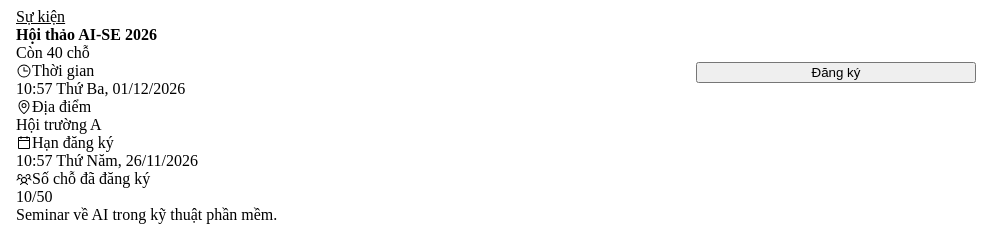
đăng ký: giữ request thì nút disabled, bấm 2 lần chỉ 1 POST, chưa báo thành công; xong thì báo và cập nhật số chỗ
Later steps or results of the test are not shown.
Expected: the text "10/50" is shown, x1=16 y1=188 x2=52 y2=205
Click the button "Đăng ký": {"x": 836, "y": 72} x1=696 y1=62 x2=976 y2=83
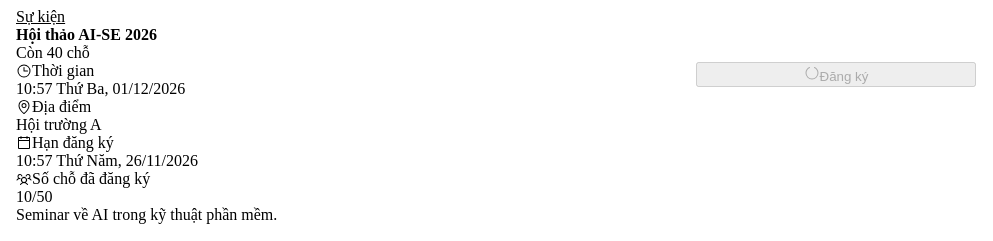
Click the button "Đăng ký": {"x": 836, "y": 74} x1=696 y1=62 x2=976 y2=87
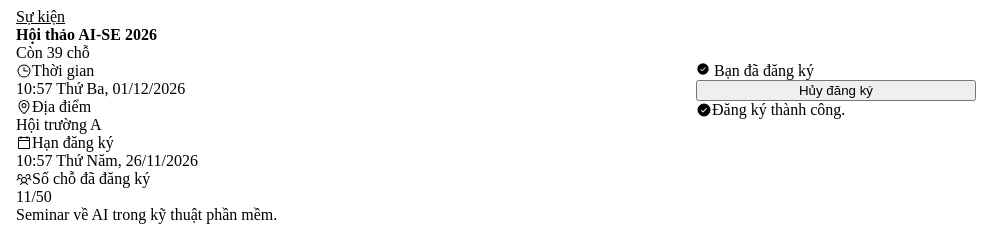
Expected: the text "Đăng ký thành công." is shown, x1=696 y1=101 x2=845 y2=118
Expected: the text "11/50" is shown, x1=16 y1=188 x2=52 y2=205
Expected: the button "Hủy đăng ký" is shown, x1=696 y1=80 x2=976 y2=101
